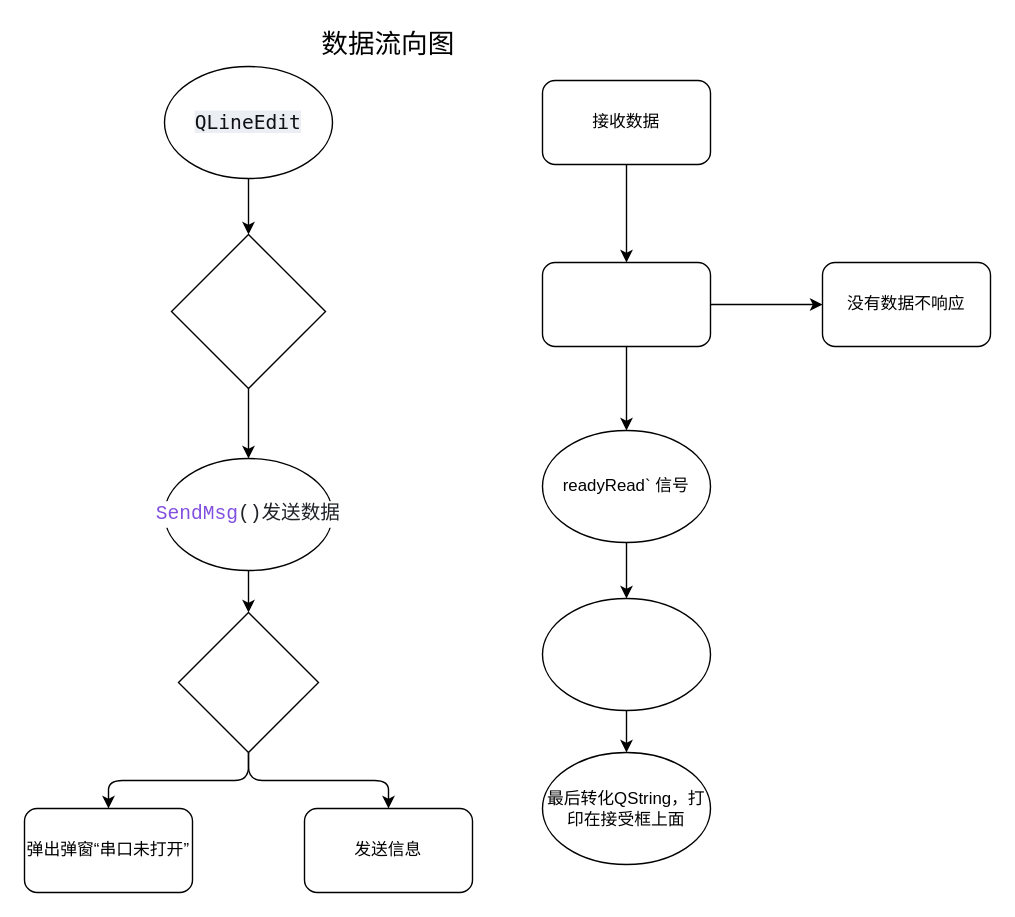
This 1015x917 diagram has some shape labels left out. Each missing label, with the centre of its shape:
readAll()` 取出: (x=625, y=653)
toUtf8() 转码: (x=248, y=310)
串口是否打开: (x=247, y=681)
底层缓冲读取数据: (x=625, y=303)
